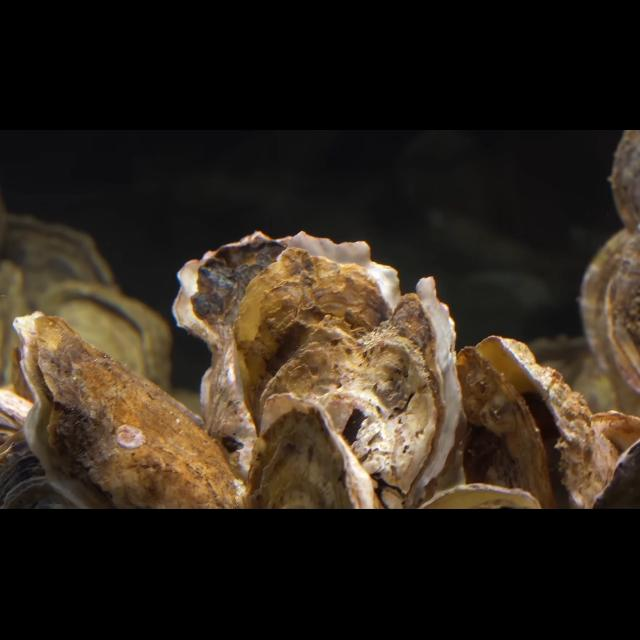Oyster-Closed: (263, 321, 442, 511), (234, 248, 392, 442), (0, 210, 116, 396), (0, 388, 68, 510)
Oyster-Open: (173, 230, 401, 482), (13, 310, 237, 512), (429, 333, 617, 511), (368, 274, 464, 511), (241, 391, 377, 511), (36, 281, 174, 399)
